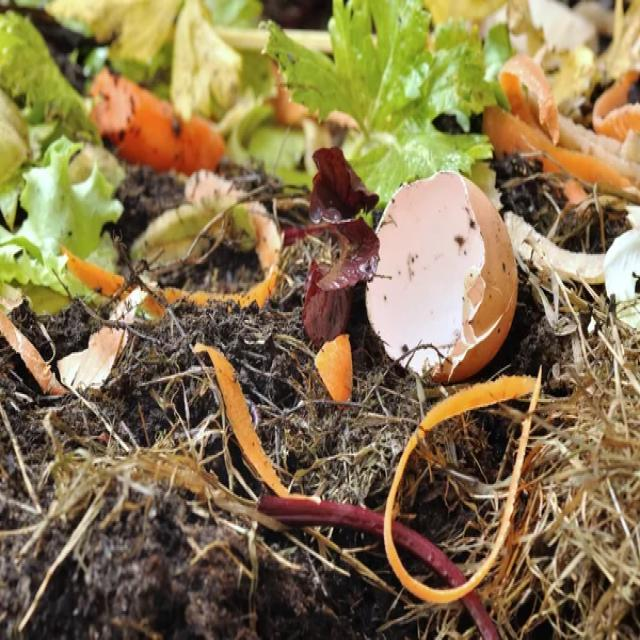Organic: (0, 0, 640, 640), (368, 164, 522, 370), (136, 165, 277, 325)
